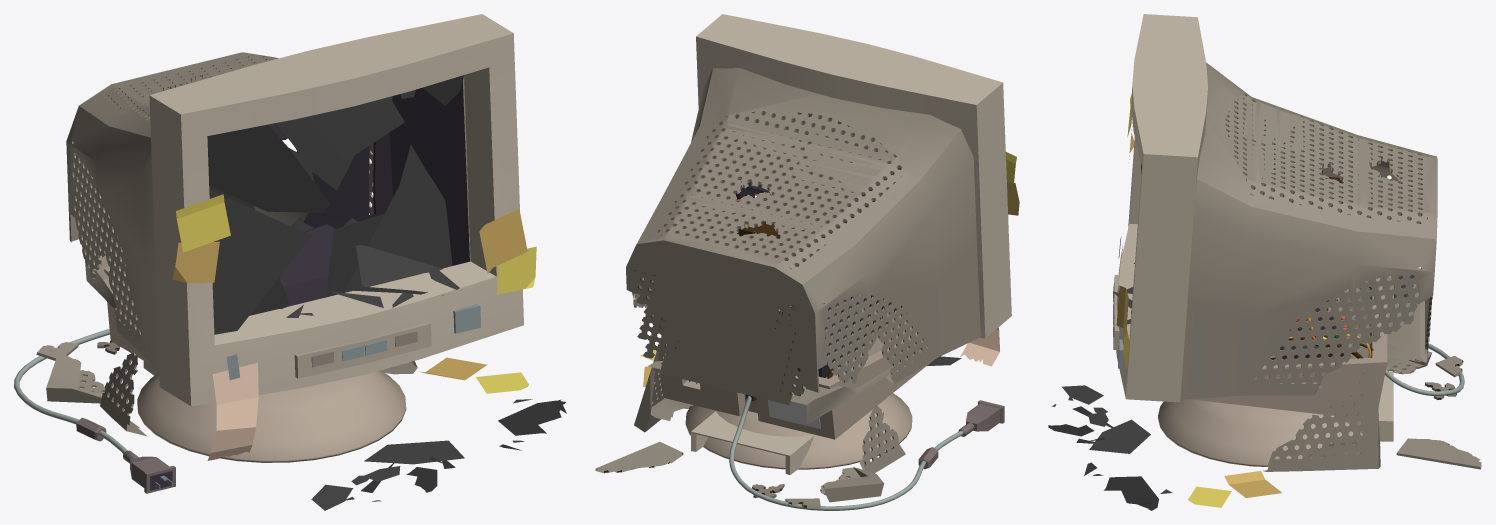
The model's file is monitor_3.fbx.
The picture shows the model from 3 angles, left to right: view 1: azimuth 30°, elevation 25°; view 2: azimuth 150°, elevation 25°; view 3: azimuth 270°, elevation 25°; orthographic projection. The views are drawn at different scales.
Visible parts, largest first — view 1: Куб.002, Куб.004, Сфера.001, Куб.015, Плоскость.006, Куб.044, Куб.032, Плоскость.003, Плоскость.007, Куб.025, Куб.041, Плоскость (+18 smaller); view 2: Куб.004, Куб.002, Куб.048, Куб.001, Сфера.001, Куб.003, Куб.051, Куб.072, КриваяБезье, Куб.049, Куб.073, Куб.047 (+3 smaller); view 3: Куб.004, Куб.002, Сфера.001, Куб.049, Куб.001, Куб.051, Куб.047, Куб.038, Куб.039, Плоскость.010, Куб.003, Плоскость.009 (+4 smaller).
Part boxes in pixels (x1,y1,x2,y2): Куб.002: [149, 14, 523, 406]; Куб.004: [66, 52, 373, 376]; Сфера.001: [137, 370, 406, 462]; Куб.015: [209, 89, 415, 334]; Плоскость.006: [279, 81, 469, 306]; Куб.044: [207, 124, 329, 212]; Куб.032: [343, 145, 452, 292]; Плоскость.003: [207, 362, 258, 460]; Плоскость.007: [296, 145, 369, 232]; Куб.025: [294, 322, 431, 378]; Куб.041: [325, 213, 384, 297]; Плоскость: [176, 194, 230, 252]; Куб.004: [632, 68, 980, 384]; Куб.002: [696, 14, 1011, 338]; Куб.048: [626, 240, 819, 404]; Куб.001: [657, 332, 933, 439]; Сфера.001: [685, 393, 912, 469]; Куб.003: [691, 411, 814, 474]; Куб.051: [648, 307, 911, 424]; Куб.072: [859, 405, 905, 473]; КриваяБезье: [729, 396, 963, 510]; Куб.049: [634, 351, 693, 432]; Куб.073: [820, 467, 884, 502]; Куб.047: [595, 441, 683, 473]; Куб.004: [1180, 62, 1436, 399]; Куб.002: [1116, 14, 1207, 402]; Сфера.001: [1158, 399, 1362, 466]; Куб.049: [1263, 364, 1380, 471]; Куб.001: [1191, 278, 1387, 416]; Куб.051: [1281, 276, 1426, 383]; Куб.047: [1396, 438, 1481, 469]; Куб.038: [1089, 419, 1150, 453]; Куб.039: [1104, 476, 1158, 510]; Плоскость.010: [1224, 471, 1281, 497]; Куб.003: [1347, 372, 1393, 441]; Плоскость.009: [1188, 486, 1231, 507].
Size of the model in its own units: 336 by 308 by 357.
